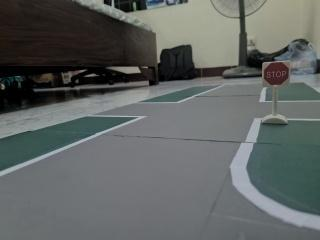stop: (260, 57, 293, 94)
